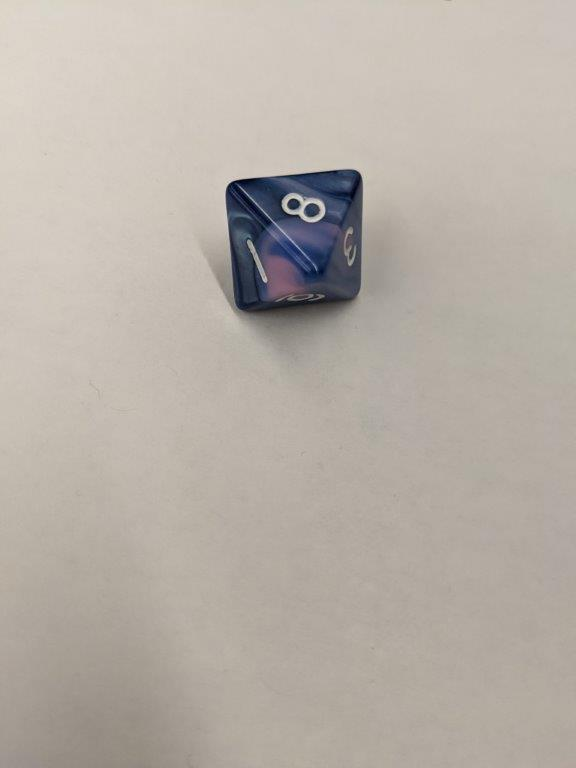d8-8: (224, 165, 366, 314)
